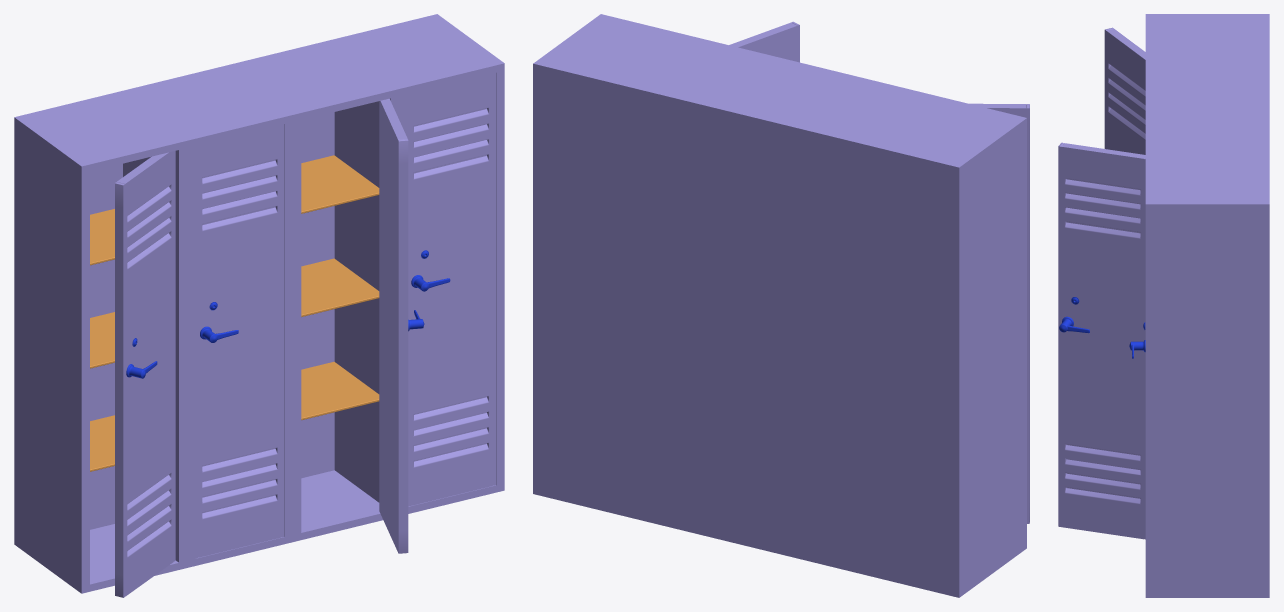
File: lockers SUBSTANCE.fbx
3 views of the same model, side by side, from view 1: azimuth 30°, elevation 25°; view 2: azimuth 150°, elevation 25°; view 3: azimuth 270°, elevation 25° (orthographic). The views are drawn at different scales.
Visible parts, largest first — view 1: locker, estante, manija.001; view 2: locker; view 3: locker, manija.001.
Boxes of the visible parts, bbox=[...] form: locker: bbox=[14, 14, 504, 597]; estante: bbox=[90, 155, 379, 471]; manija.001: bbox=[126, 250, 450, 378]; locker: bbox=[533, 14, 1029, 597]; locker: bbox=[1058, 14, 1269, 597]; manija.001: bbox=[1059, 297, 1145, 358].
Size of the model in its own units: 725 by 700 by 341.
